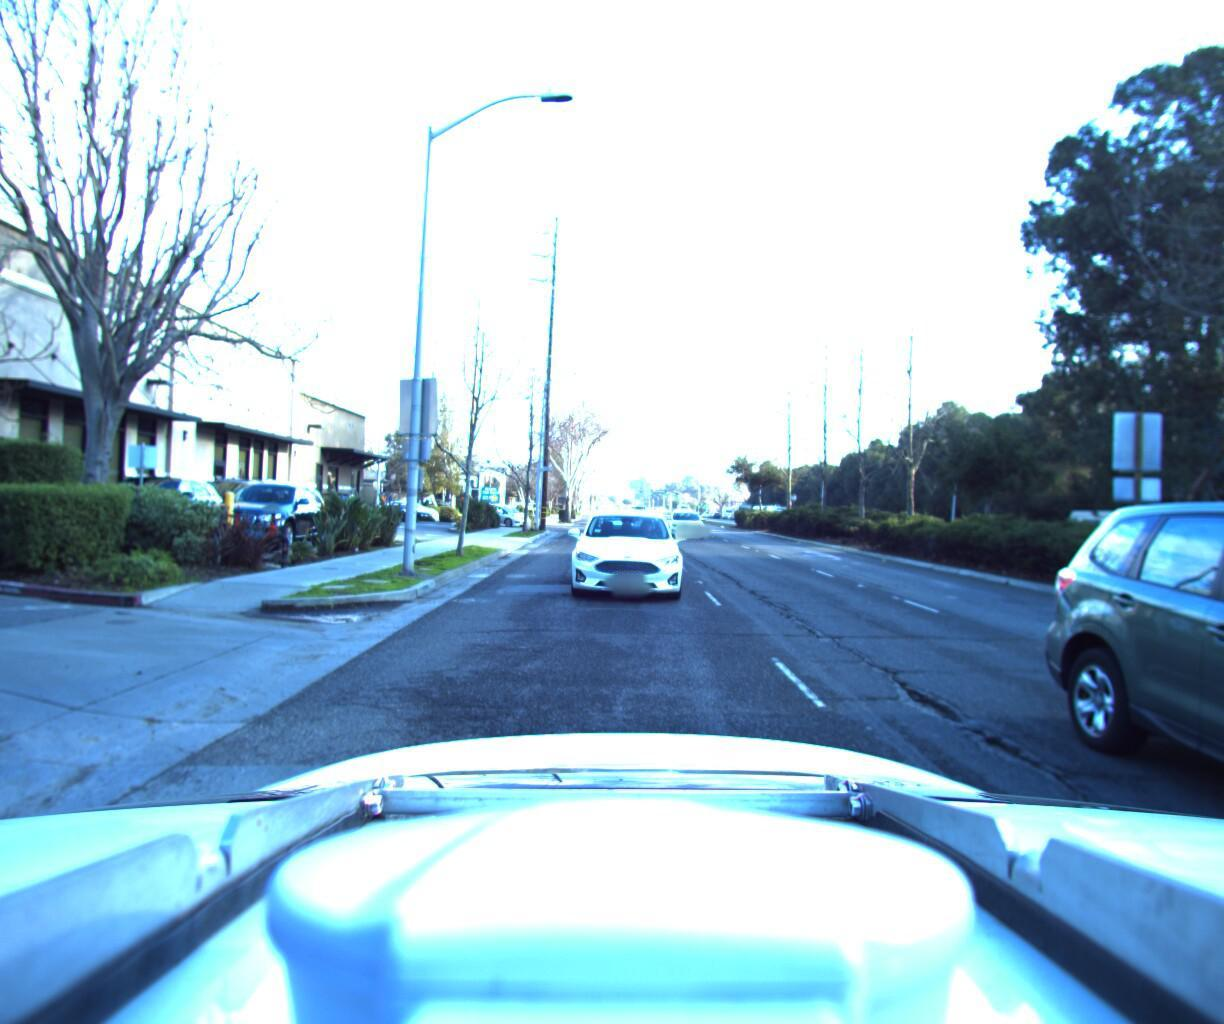car: (1149, 464, 1224, 1024), (59, 463, 234, 548), (186, 470, 340, 554), (572, 502, 687, 607), (176, 467, 303, 536), (465, 496, 533, 522), (373, 493, 442, 516), (664, 501, 707, 535)
other_vehicle: (1059, 497, 1191, 558)
